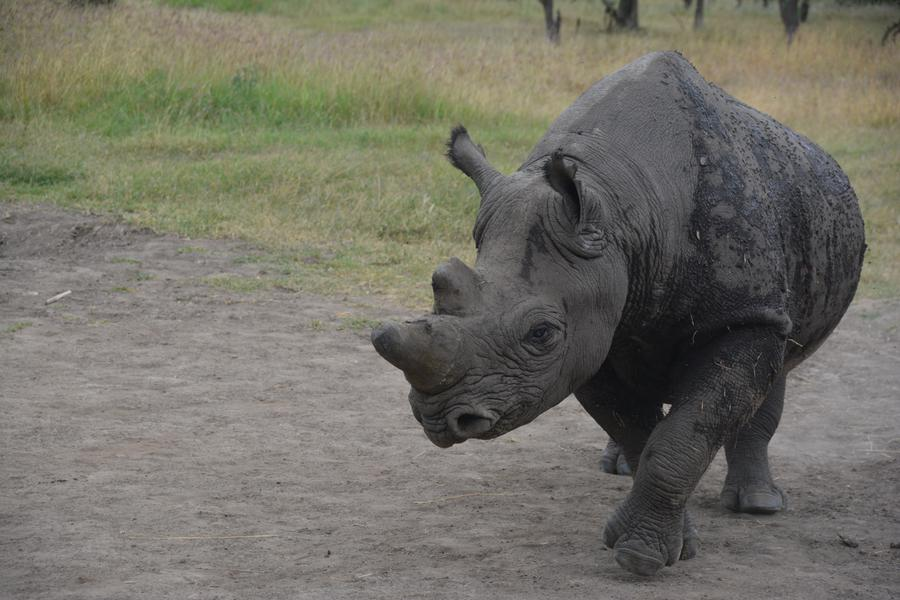rhino: (372, 53, 852, 538)
